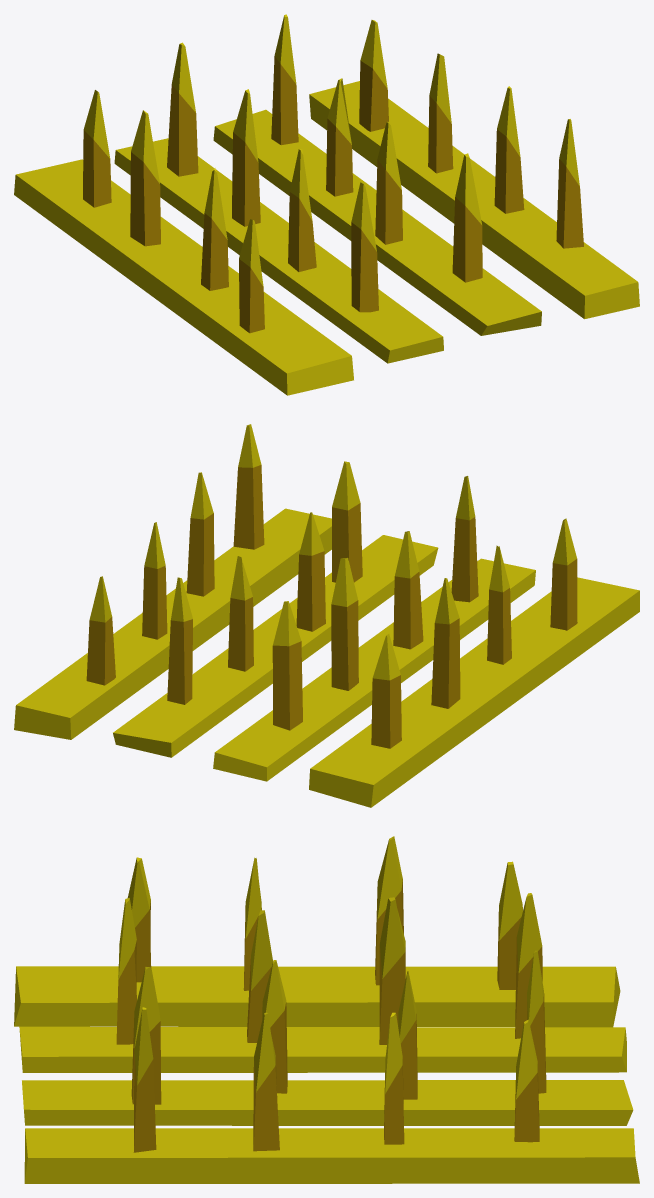
The model's file is wood_spikes.glb.
3 renders of one model, top to bottom at view 1: azimuth 30°, elevation 25°; view 2: azimuth 150°, elevation 25°; view 3: azimuth 270°, elevation 25°, orthographic. The views are drawn at different scales.
Visible parts, largest first — view 1: WoodSpikes; view 2: WoodSpikes; view 3: WoodSpikes.
Part boxes in pixels (x1,y1,x2,y2): WoodSpikes: (14,14,639,395); WoodSpikes: (14,424,639,807); WoodSpikes: (14,836,639,1183).
Bounding box in the file's own units: 1.42 × 0.586 × 1.95.
